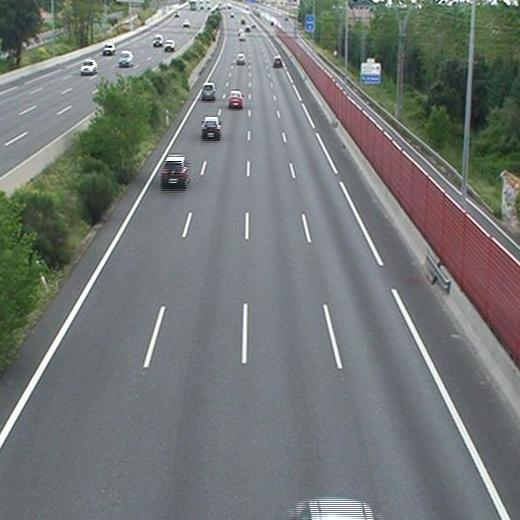car: (162, 156, 189, 185), (202, 118, 219, 138), (228, 90, 243, 107), (201, 84, 216, 99), (272, 56, 282, 66), (236, 53, 245, 63)
